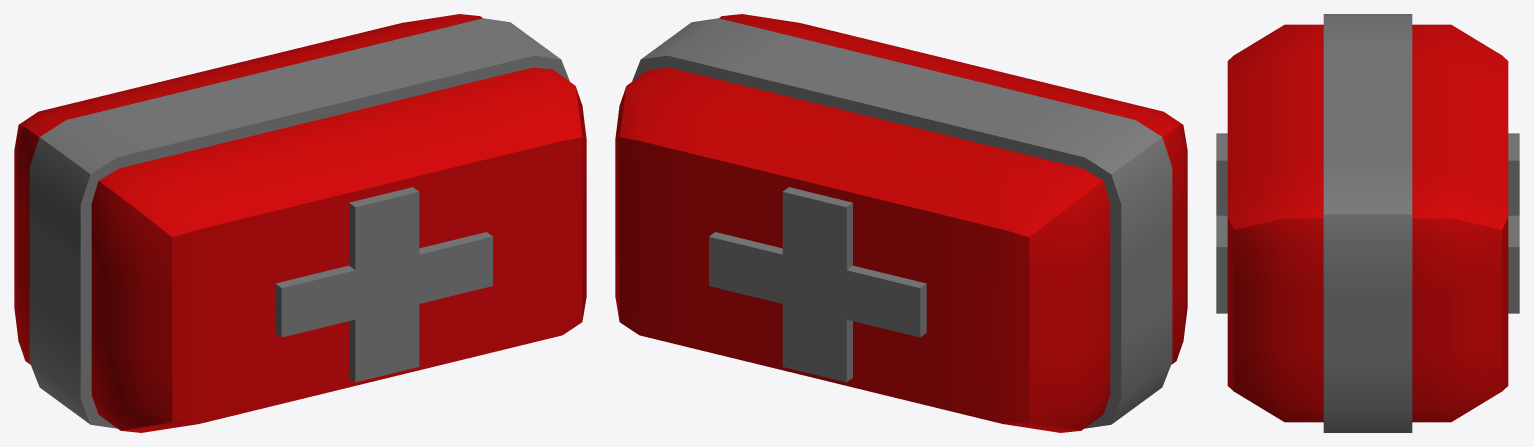
The model's file is healthItem.FBX.
3 renders of one model, left to right at view 1: azimuth 30°, elevation 25°; view 2: azimuth 150°, elevation 25°; view 3: azimuth 270°, elevation 25°, orthographic. The views are drawn at different scales.
Parts seen in each view (by area): view 1: Box001; view 2: Box001; view 3: Box001.
Part boxes in pixels (left/top/right/bottom): Box001: left=14, top=14, right=586, bottom=432; Box001: left=615, top=14, right=1187, bottom=432; Box001: left=1216, top=14, right=1519, bottom=432.
Size of the model in its own units: 52.8 by 27.89 by 32.4.
1 material, 1 textured.
